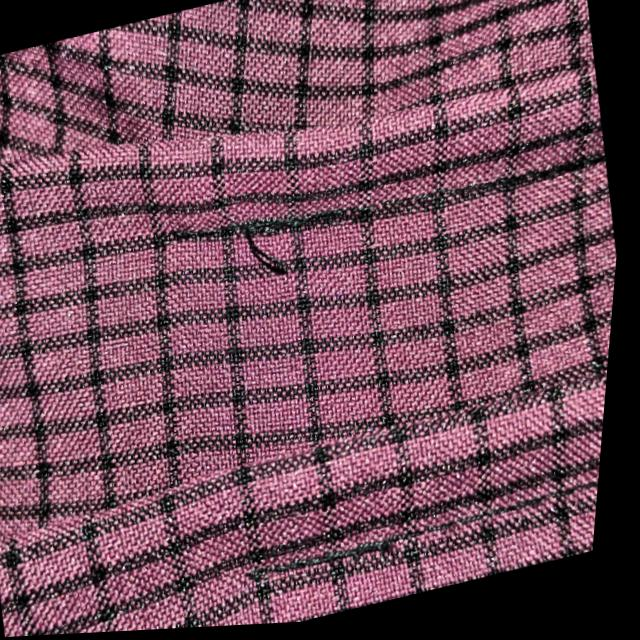Stitch: (170, 133, 333, 323)
